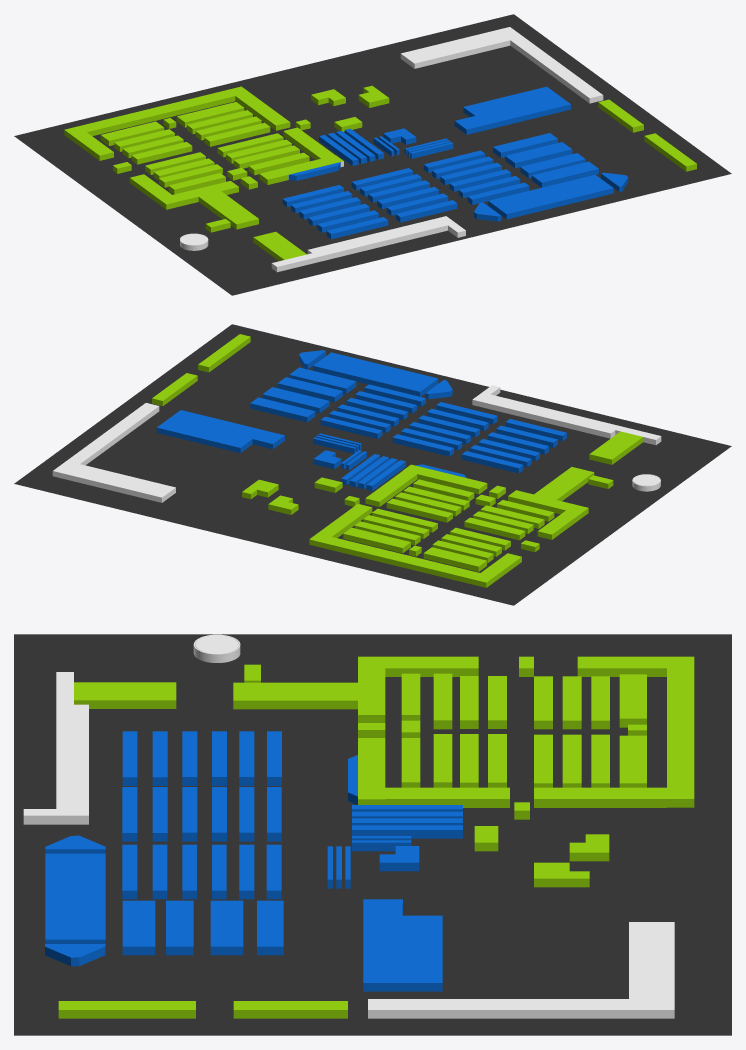
Rendered from test_1_centered.glb.
3 views of the same model, one above another, from view 1: azimuth 30°, elevation 25°; view 2: azimuth 150°, elevation 25°; view 3: azimuth 270°, elevation 25° (orthographic). The views are drawn at different scales.
Visible parts, largest first — view 1: Plane, Curve.005; view 2: Plane, Curve.005; view 3: Plane, Curve.005.
Boxes of the visible parts, box(x1,y1,x2,y2) form: Plane: box(14, 14, 731, 295); Curve.005: box(64, 27, 696, 272); Plane: box(14, 324, 731, 605); Curve.005: box(52, 334, 661, 587); Plane: box(14, 634, 731, 1035); Curve.005: box(23, 634, 694, 1018).
Size of the model in its own units: 6.1 by 0.062 by 4.61.
